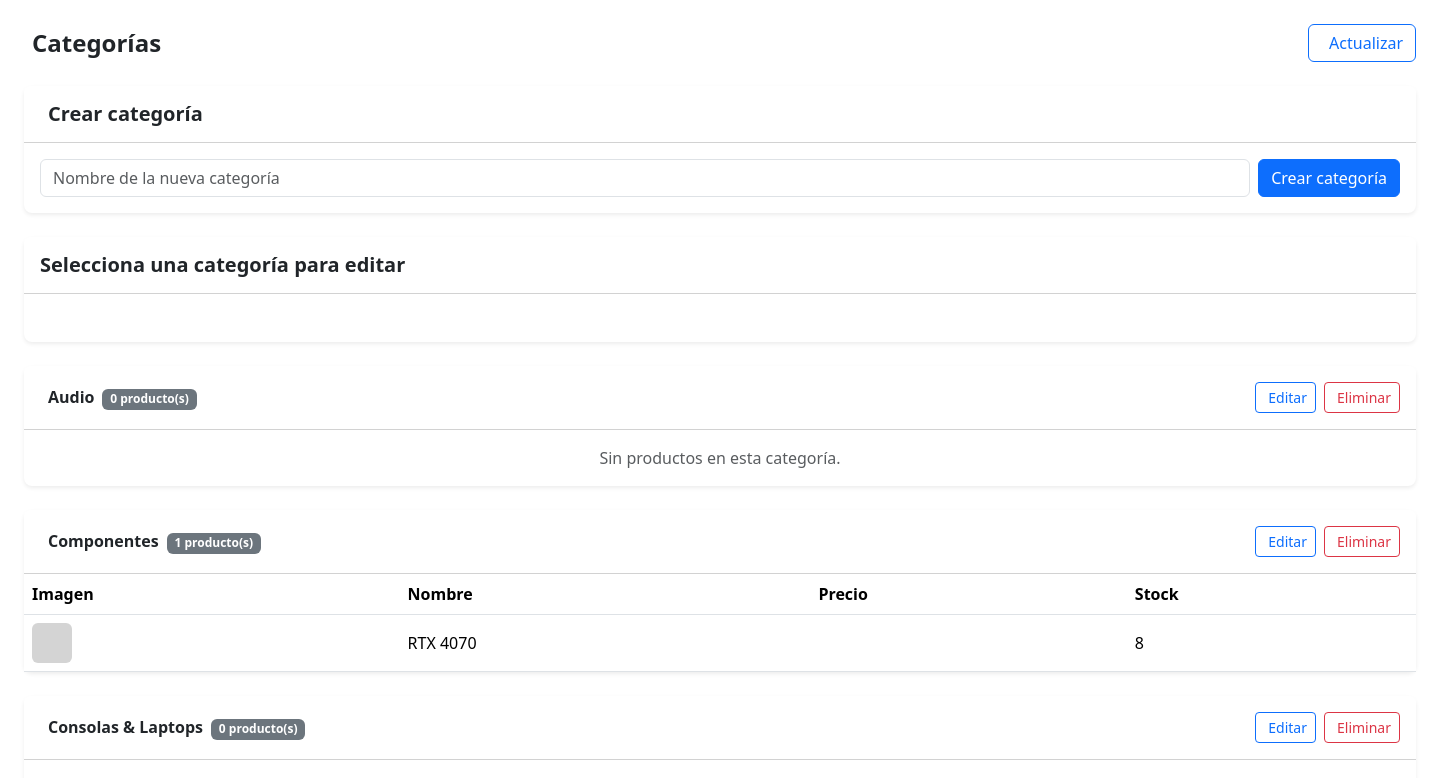
Test: AdminCategorias › crear › un nombre sin letras ni números no es válido
Type "!!!" into the field with placeholder "Nombre de la nueva categoría" at (645, 178), box [40,159,1250,197]
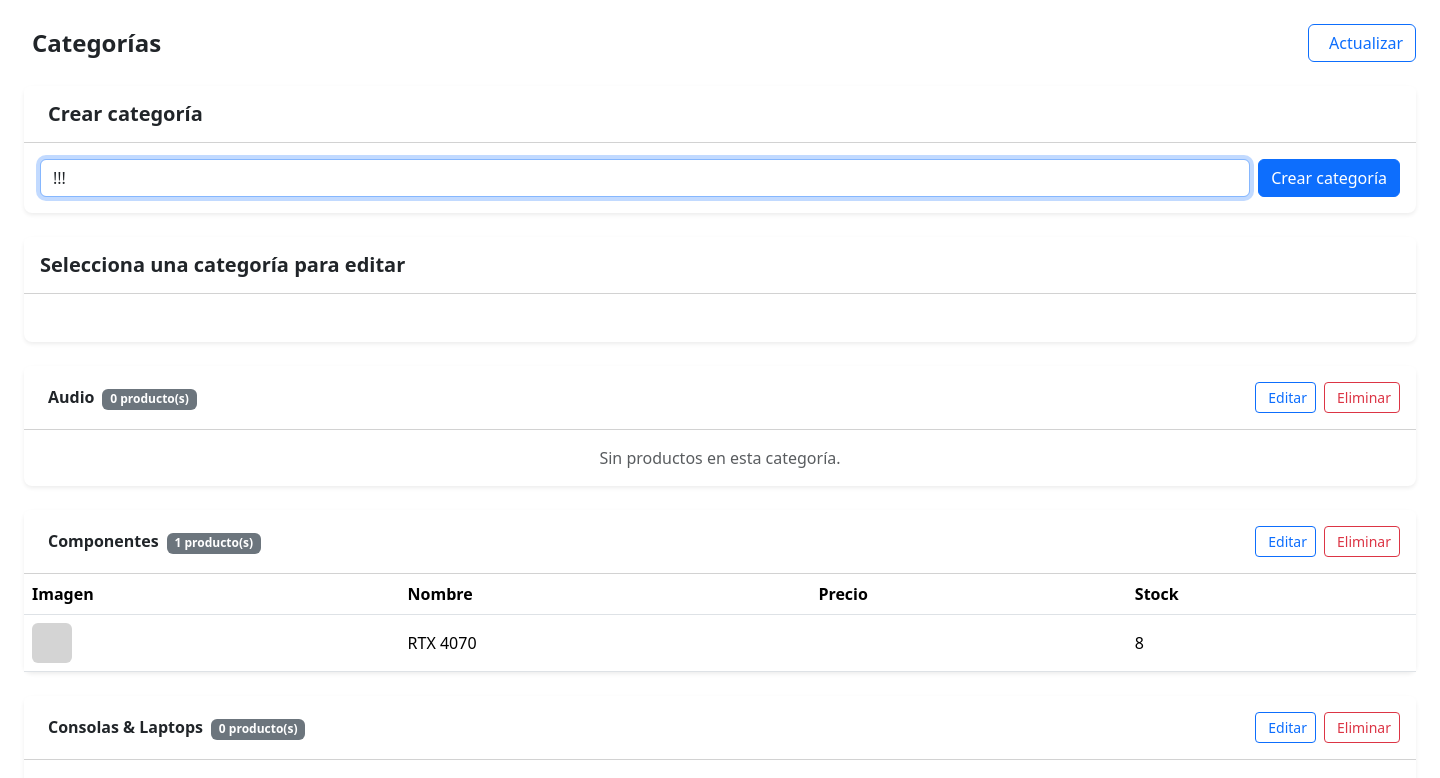
Click the button "Crear categoría" at (1329, 178), box [1258,159,1400,197]
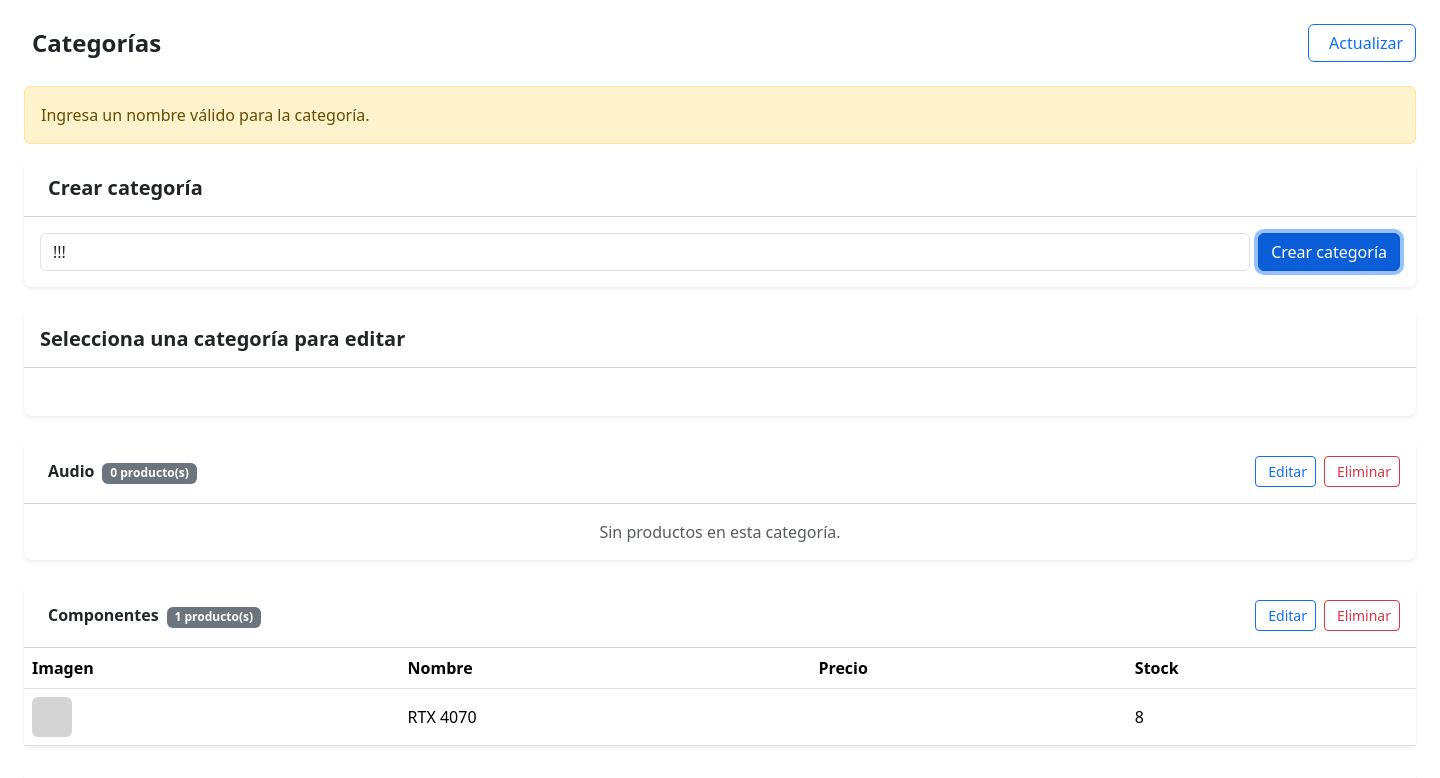
Now the text "Ingresa un nombre válido para la categoría." is shown, box [24,86,1416,144]
